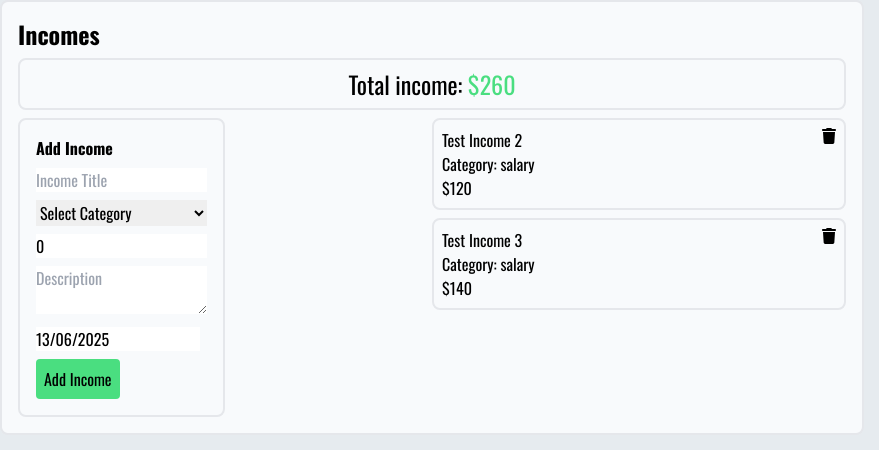
Test: List Incomes › When incomes are provided from the API › Delete Incomes › When the delete income button is clicked but there is an error with the request › should show an error message an keep the income in the list
The image size is (879, 450).
Click the picture with test id "delete-income-123": coordinates (829, 136) [822,128,836,144]
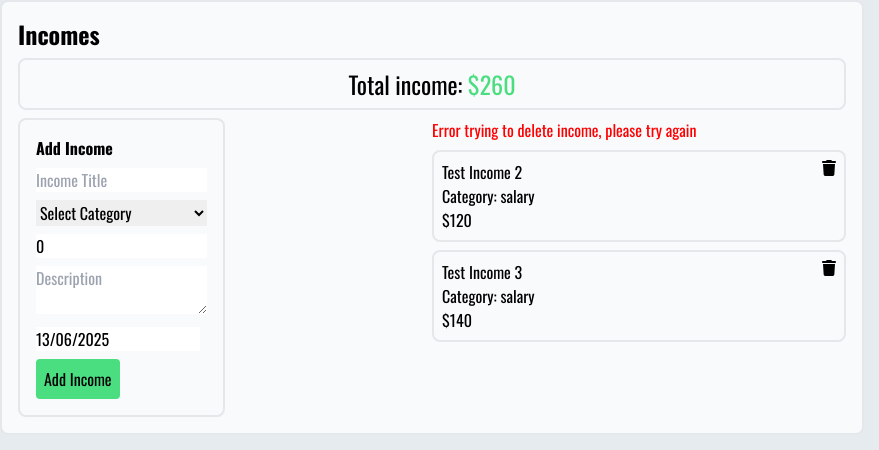
Expected: the text "Test Income 2" is shown, [442,160,836,184]
Now the text with test id "return-promise-message" reads "Error trying to delete income, please try again", box [432,118,697,142]
